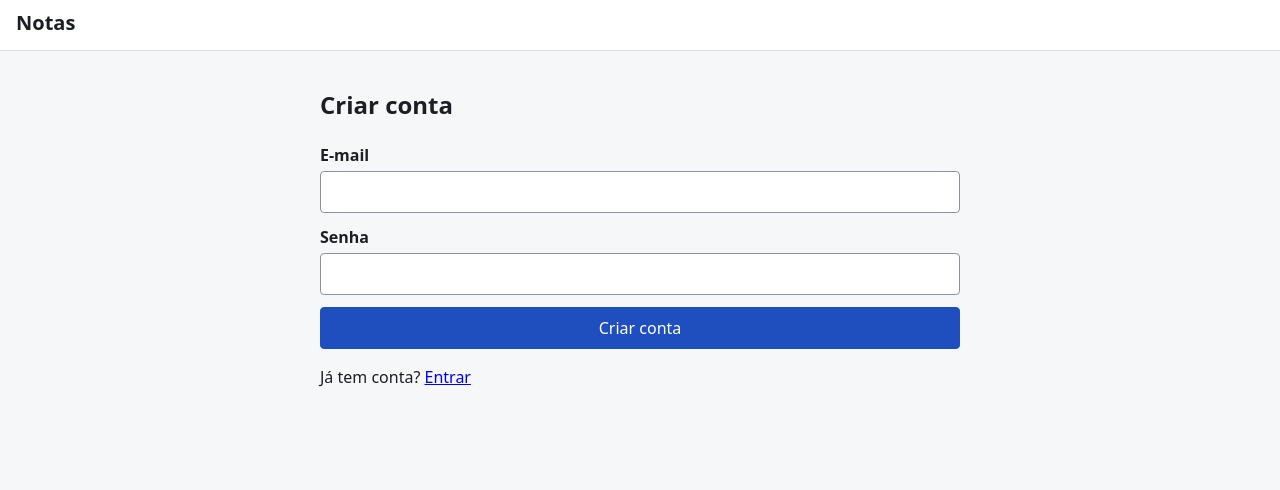
Test case: cadastro › orienta a confirmar o e-mail quando não há sessão
This screenshot has width=1280, height=490.
Type "nova@example.com" into the field labelled "E-mail" at x=640, y=192, box x1=320 y1=171 x2=960 y2=213
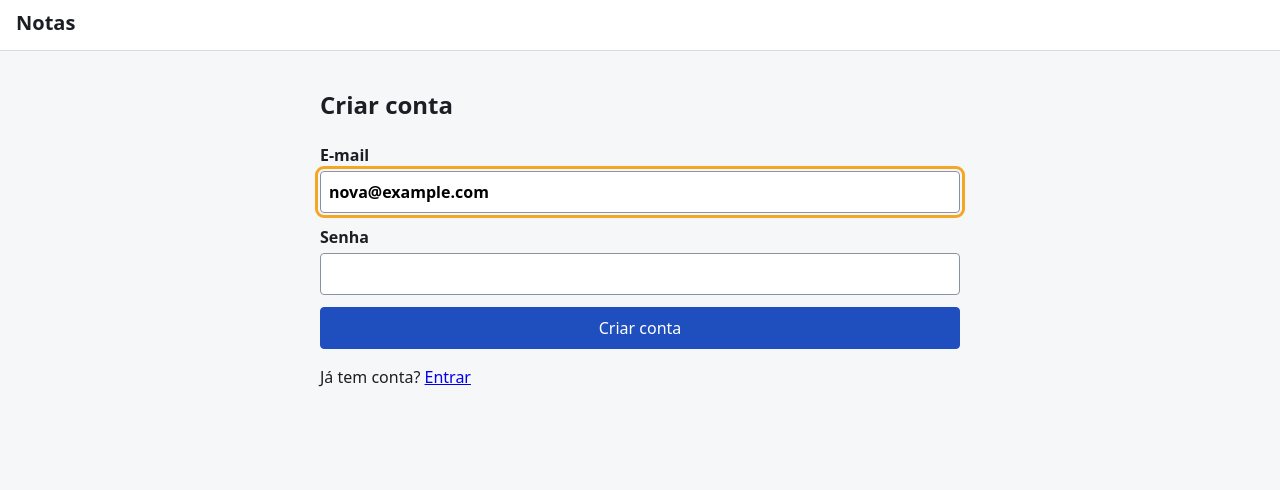
Type "segredo123" into the password field labelled "Senha" at x=640, y=274, box x1=320 y1=253 x2=960 y2=295
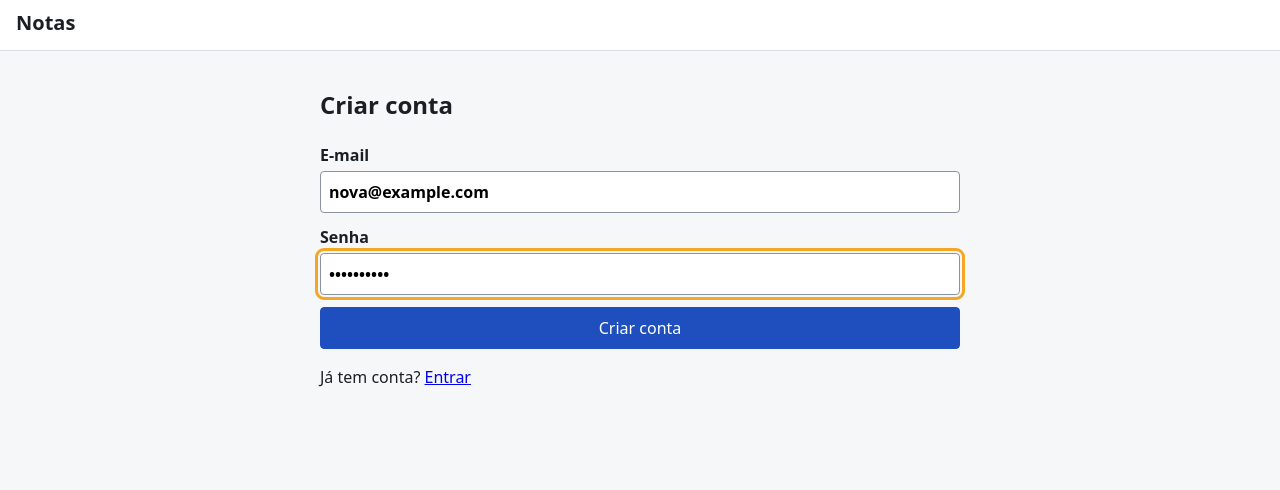
Click the button "Criar conta" at x=640, y=328, box x1=320 y1=307 x2=960 y2=349
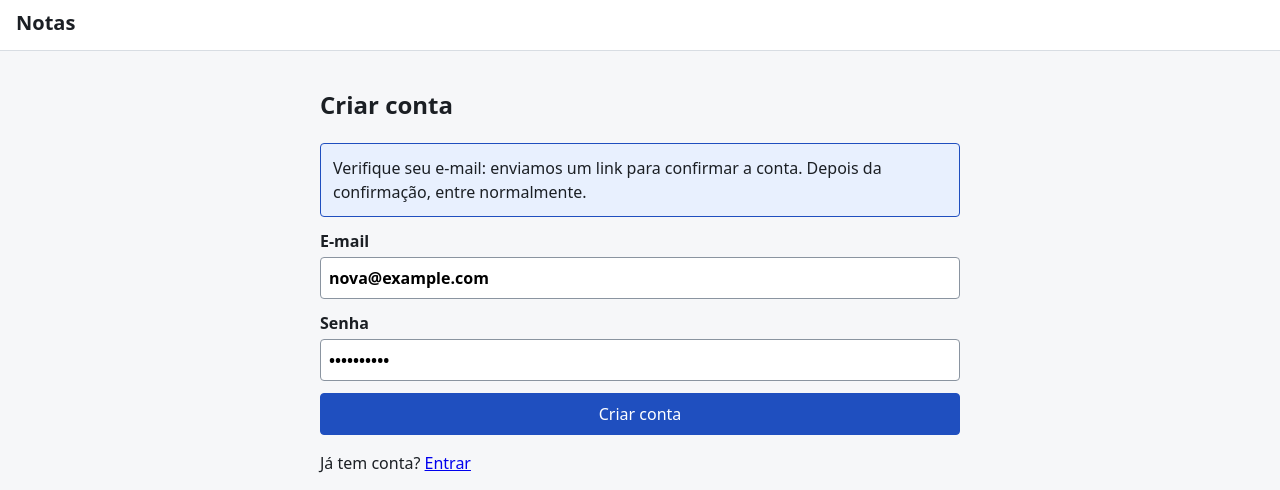
Expected: the message shows "Verifique seu e-mail", x1=333 y1=157 x2=882 y2=203
